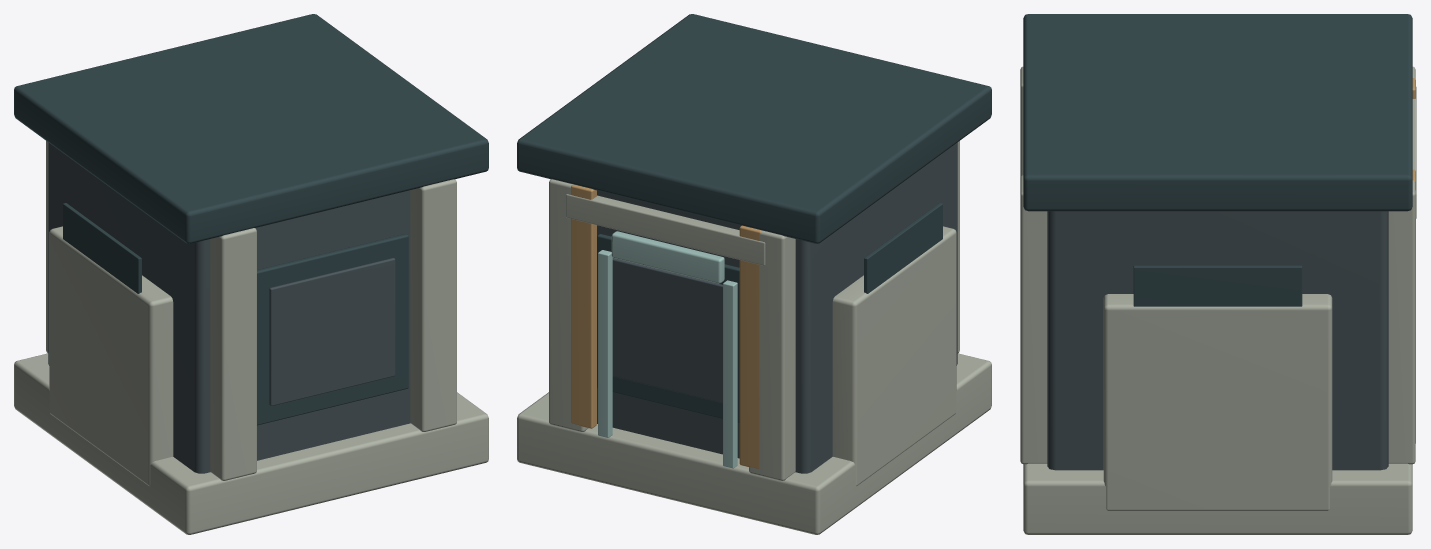
File: gate-1.glb
3 renders of one model, left to right at view 1: azimuth 30°, elevation 25°; view 2: azimuth 150°, elevation 25°; view 3: azimuth 270°, elevation 25°, orthographic. The views are drawn at different scales.
Visible parts, largest first — view 1: gate_2.001, gate_1.001, gate_0.001; view 2: gate_2.001, gate_1.001, gate_0.001, gate_3.001, gate_4.001; view 3: gate_2.001, gate_1.001, gate_0.001.
Part boxes in pixels (x1,y1,x2,y2): gate_2.001: (14, 14, 488, 425); gate_1.001: (14, 141, 488, 534); gate_0.001: (48, 142, 410, 473); gate_2.001: (517, 14, 991, 422); gate_1.001: (517, 141, 991, 534); gate_0.001: (597, 142, 957, 473); gate_3.001: (571, 184, 761, 468); gate_4.001: (598, 231, 737, 468); gate_2.001: (1023, 14, 1412, 306); gate_1.001: (1020, 66, 1416, 534); gate_0.001: (1047, 211, 1388, 470).
Size of the model in its own units: 0.975 by 0.99 by 0.9875.
